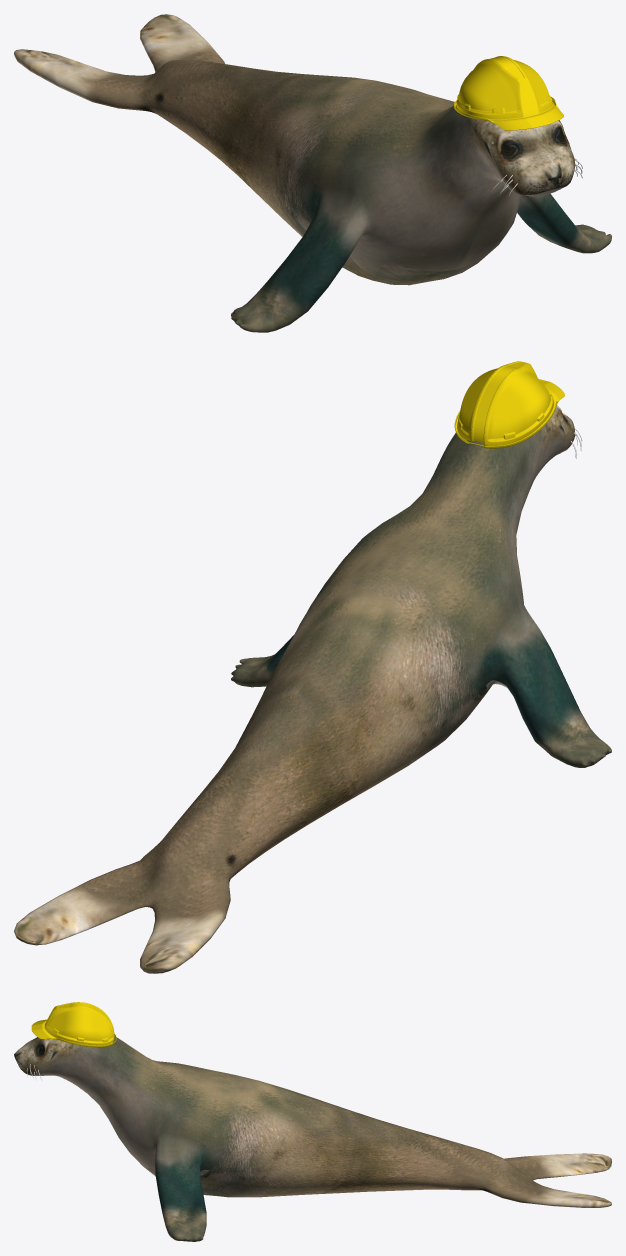
The model's file is Bia.gltf.
3 renders of one model, top to bottom at view 1: azimuth 30°, elevation 25°; view 2: azimuth 150°, elevation 25°; view 3: azimuth 270°, elevation 25°, orthographic. The views are drawn at different scales.
Parts seen in each view (by area): view 1: Seal.001, stitch_result_stitch all.005; view 2: Seal.001, stitch_result_stitch all.005; view 3: Seal.001, stitch_result_stitch all.005.
Part boxes in pixels (x1=…): Seal.001: x1=14, y1=14, x2=611, y2=332; stitch_result_stitch all.005: x1=453, y1=56, x2=563, y2=130; Seal.001: x1=14, y1=405, x2=611, y2=973; stitch_result_stitch all.005: x1=454, y1=361, x2=564, y2=448; Seal.001: x1=14, y1=1036, x2=611, y2=1241; stitch_result_stitch all.005: x1=31, y1=1002, x2=116, y2=1047.
Size of the model in its own units: 0.8676 by 0.6491 by 1.89.
5 materials, 1 textured.
